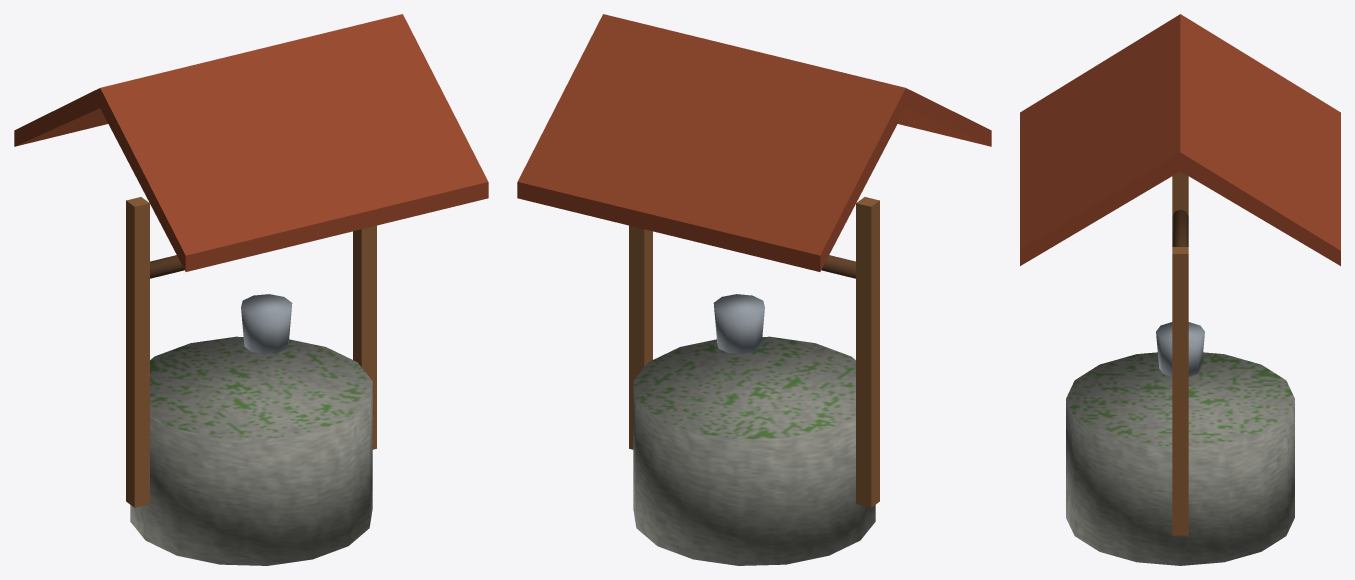
Rendered from prop_sumur.glb.
3 views of the same model, side by side, from view 1: azimuth 30°, elevation 25°; view 2: azimuth 150°, elevation 25°; view 3: azimuth 270°, elevation 25° (orthographic). The views are drawn at different scales.
Visible parts, largest first — view 1: sumur; view 2: sumur; view 3: sumur.
Boxes of the visible parts, x1=… form: sumur: x1=14, y1=14, x2=488, y2=565; sumur: x1=517, y1=14, x2=991, y2=565; sumur: x1=1020, y1=14, x2=1340, y2=565.
Bounding box in the file's own units: 2 × 2.93 × 1.96.
6 materials, 2 textured.
